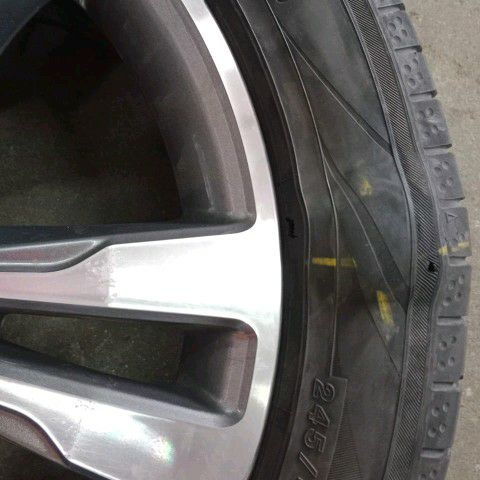CBU: (284, 153, 446, 316)
cut: (282, 216, 301, 241), (426, 258, 439, 273)
